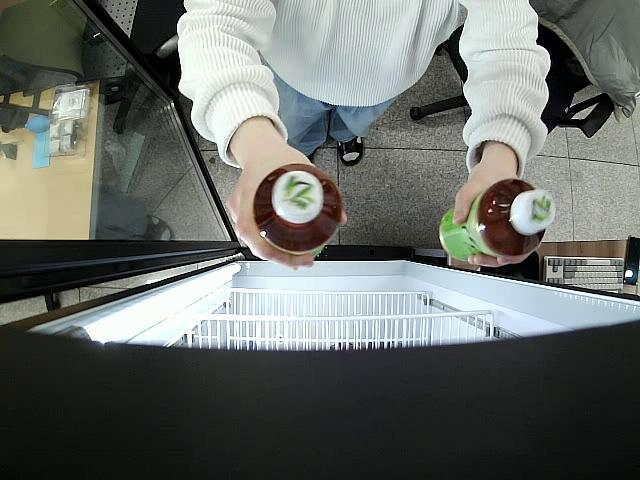00_hand: (222, 152, 348, 271), (455, 167, 531, 266)
19_17cha: (437, 178, 557, 258), (252, 163, 345, 251)
